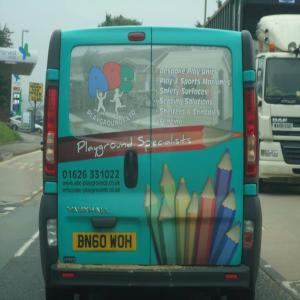Vehicle-registration-plate: (74, 234, 138, 253)
